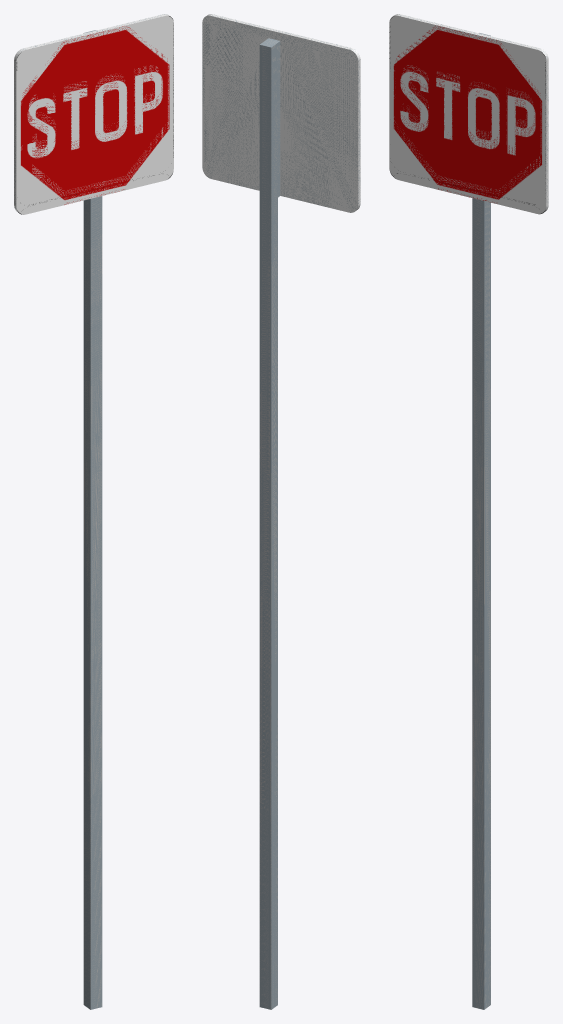
The model's file is stop_sign.fbx.
The picture shows the model from 3 angles, left to right: view 1: azimuth 30°, elevation 25°; view 2: azimuth 150°, elevation 25°; view 3: azimuth 330°, elevation 25°; orthographic projection.
Parts seen in each view (by area): view 1: Group1; view 2: Group1; view 3: Group1.
Part boxes in pixels (x1,y1,x2,y2): Group1: (14,14,173,1009); Group1: (202,14,360,1009); Group1: (389,14,548,1009).
Bounding box in the file's own units: 0.4 × 2.38 × 0.05.
